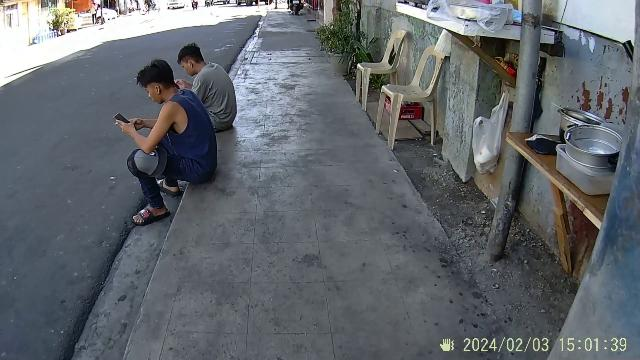bench: (351, 30, 441, 150)
